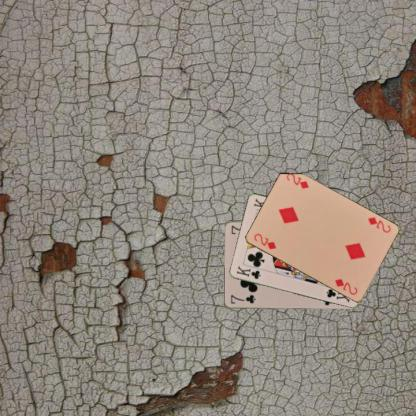2d: (365, 214, 392, 234), (252, 231, 278, 251)
7c: (228, 292, 257, 305)
Kc: (234, 264, 262, 280)
